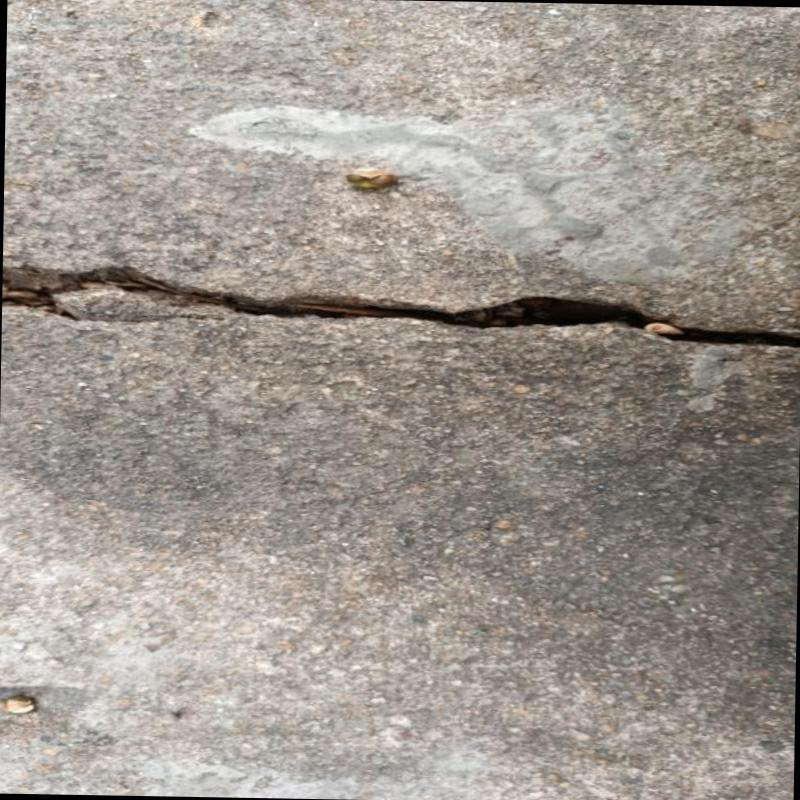crack: (2, 266, 800, 347)
